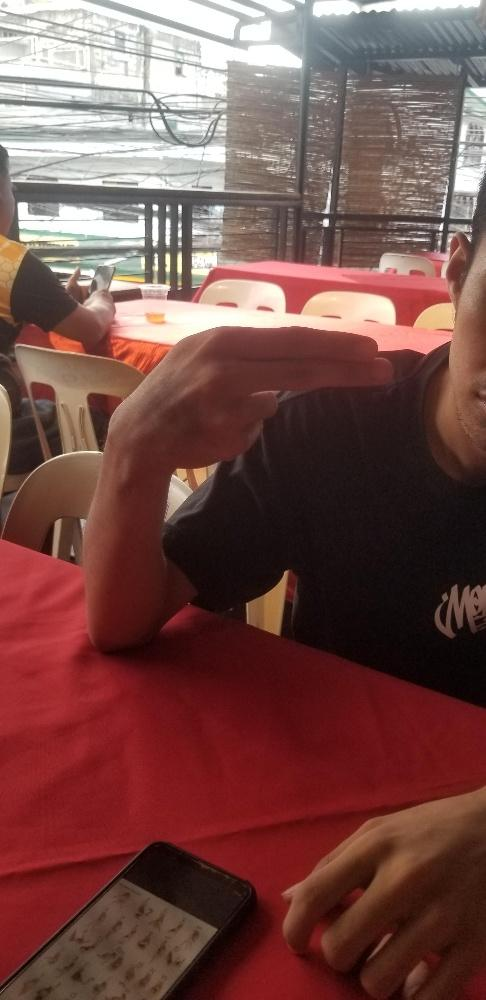h: (104, 319, 394, 471)
